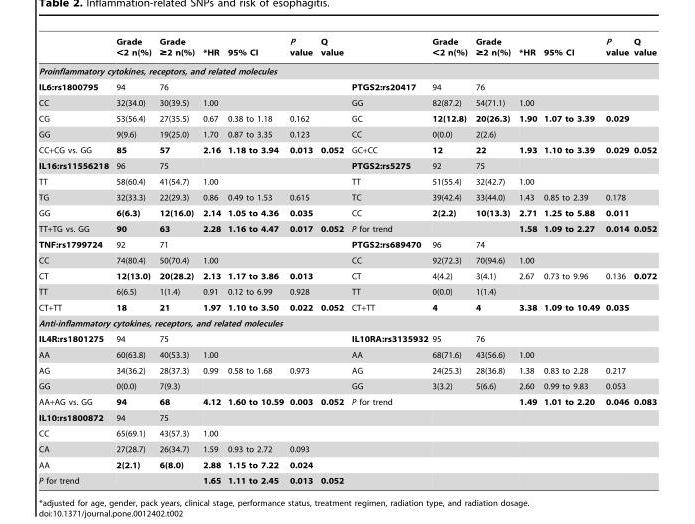table: (37, 37, 656, 484)
table column: (347, 37, 429, 484), (37, 37, 111, 484), (223, 37, 285, 484), (539, 37, 601, 484), (154, 37, 198, 484), (470, 37, 514, 484), (111, 37, 154, 484), (429, 37, 470, 484), (285, 37, 316, 484), (316, 37, 347, 484), (601, 37, 630, 484), (630, 37, 656, 484), (198, 37, 223, 484), (514, 37, 539, 484)
table column header: (37, 37, 656, 61)
table projected row header: (37, 61, 656, 79), (37, 315, 656, 331)
table row: (37, 37, 656, 61), (37, 61, 656, 79), (37, 140, 656, 158), (37, 219, 656, 236), (37, 298, 656, 315), (37, 392, 656, 409), (37, 94, 656, 110), (37, 110, 656, 126), (37, 173, 656, 189), (37, 189, 656, 205), (37, 236, 656, 252), (37, 252, 656, 268), (37, 315, 656, 331), (37, 346, 656, 362), (37, 362, 656, 378), (37, 409, 656, 425), (37, 425, 656, 441), (37, 456, 656, 472), (37, 79, 656, 94), (37, 158, 656, 173), (37, 268, 656, 283), (37, 283, 656, 298), (37, 331, 656, 346), (37, 441, 656, 456), (37, 126, 656, 140), (37, 205, 656, 219), (37, 378, 656, 392), (37, 472, 656, 484)
